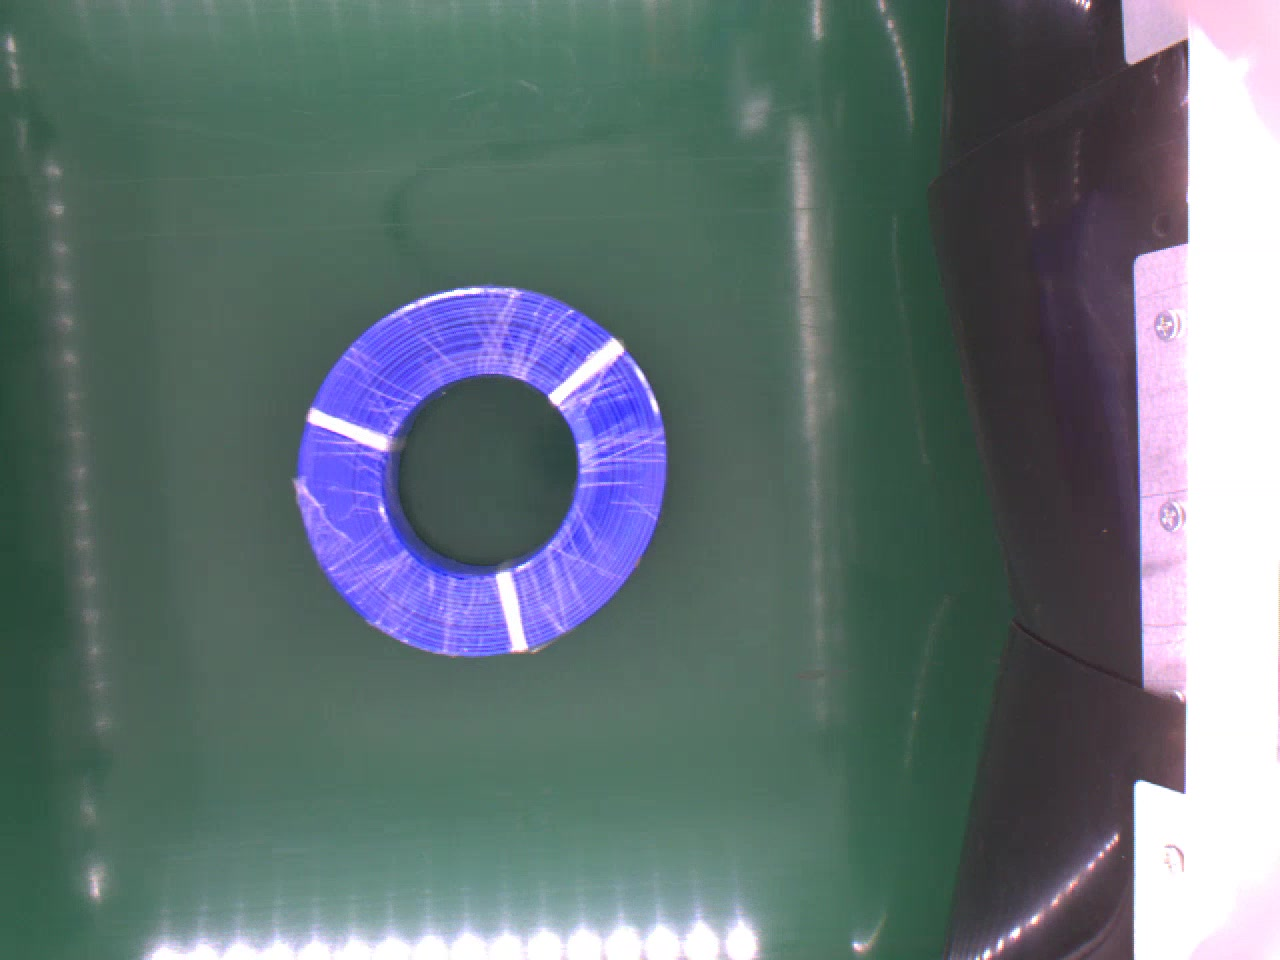blue: (290, 274, 684, 652)
